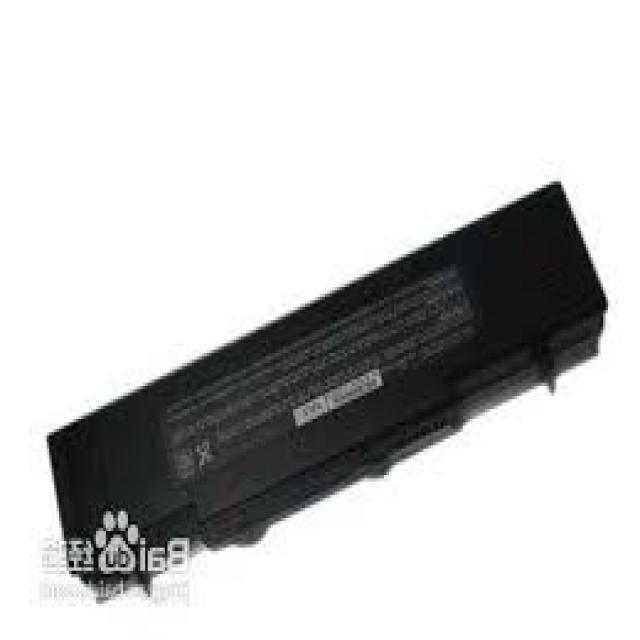battery: (48, 173, 608, 610)
